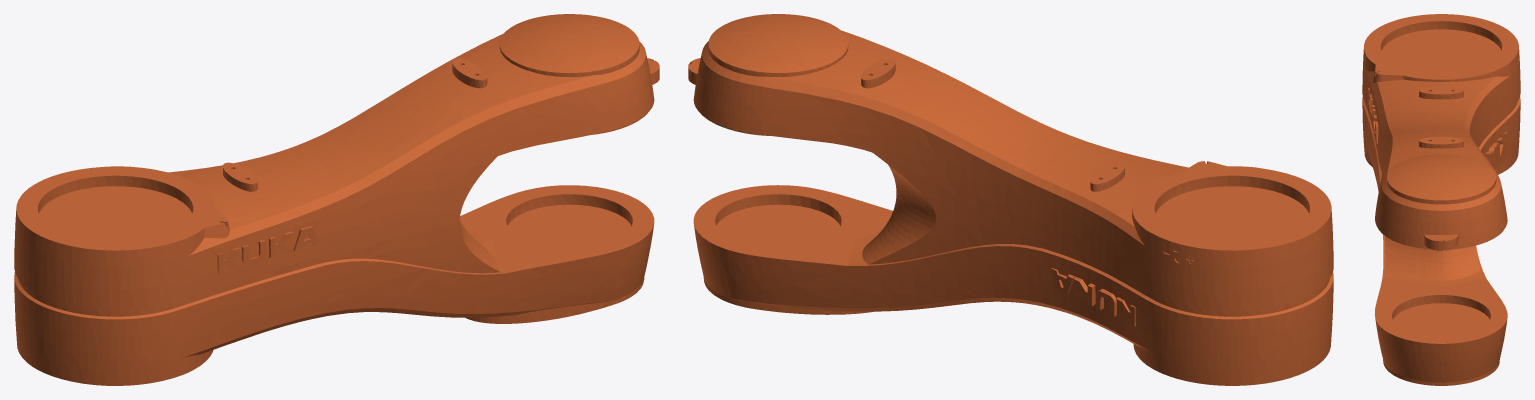
3 renders of one model, left to right at view 1: azimuth 30°, elevation 25°; view 2: azimuth 150°, elevation 25°; view 3: azimuth 270°, elevation 25°, orthographic. The views are drawn at different scales.
Visible parts, largest first — view 1: link_2; view 2: link_2; view 3: link_2.
Part boxes in pixels (bbox=[...]): link_2: bbox=[14, 14, 659, 385]; link_2: bbox=[688, 14, 1333, 385]; link_2: bbox=[1362, 14, 1520, 385].
Size of the model in its own units: 0.6305 by 0.249 by 0.176.
